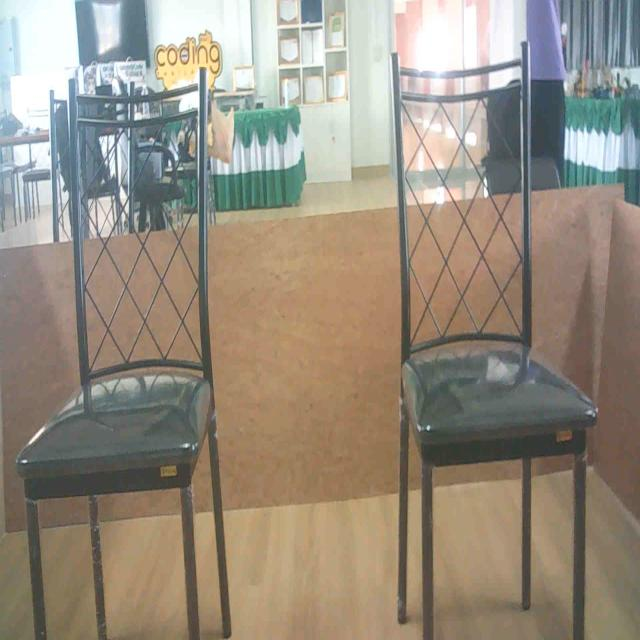empty: (380, 52, 601, 479), (11, 71, 217, 512)
